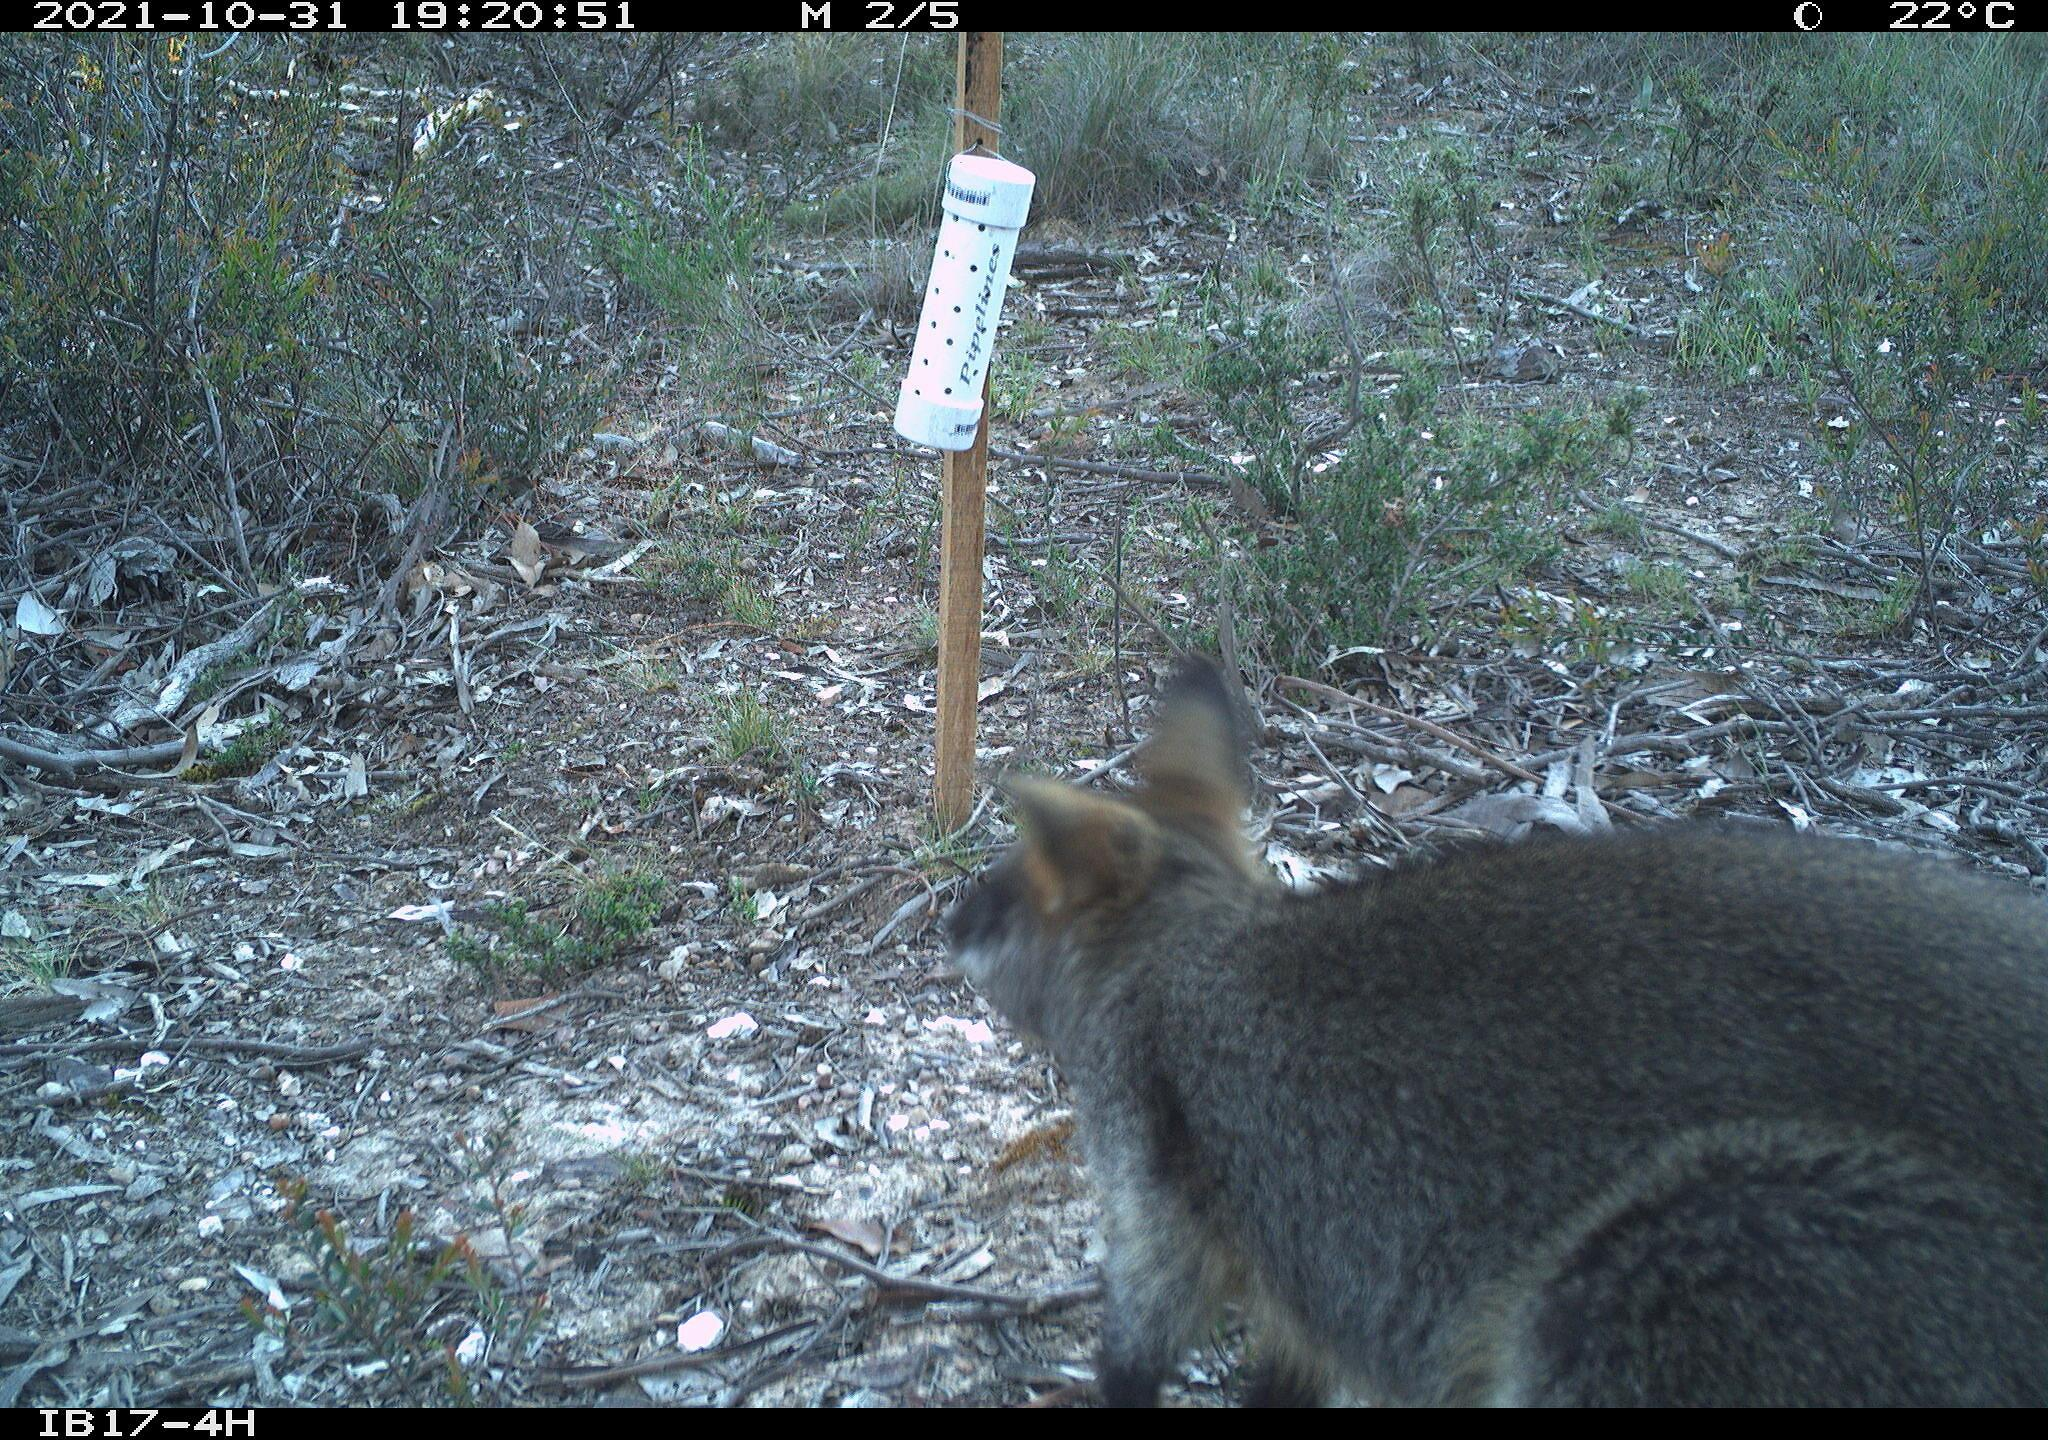Swamp wallaby: (940, 653, 2048, 1403)
